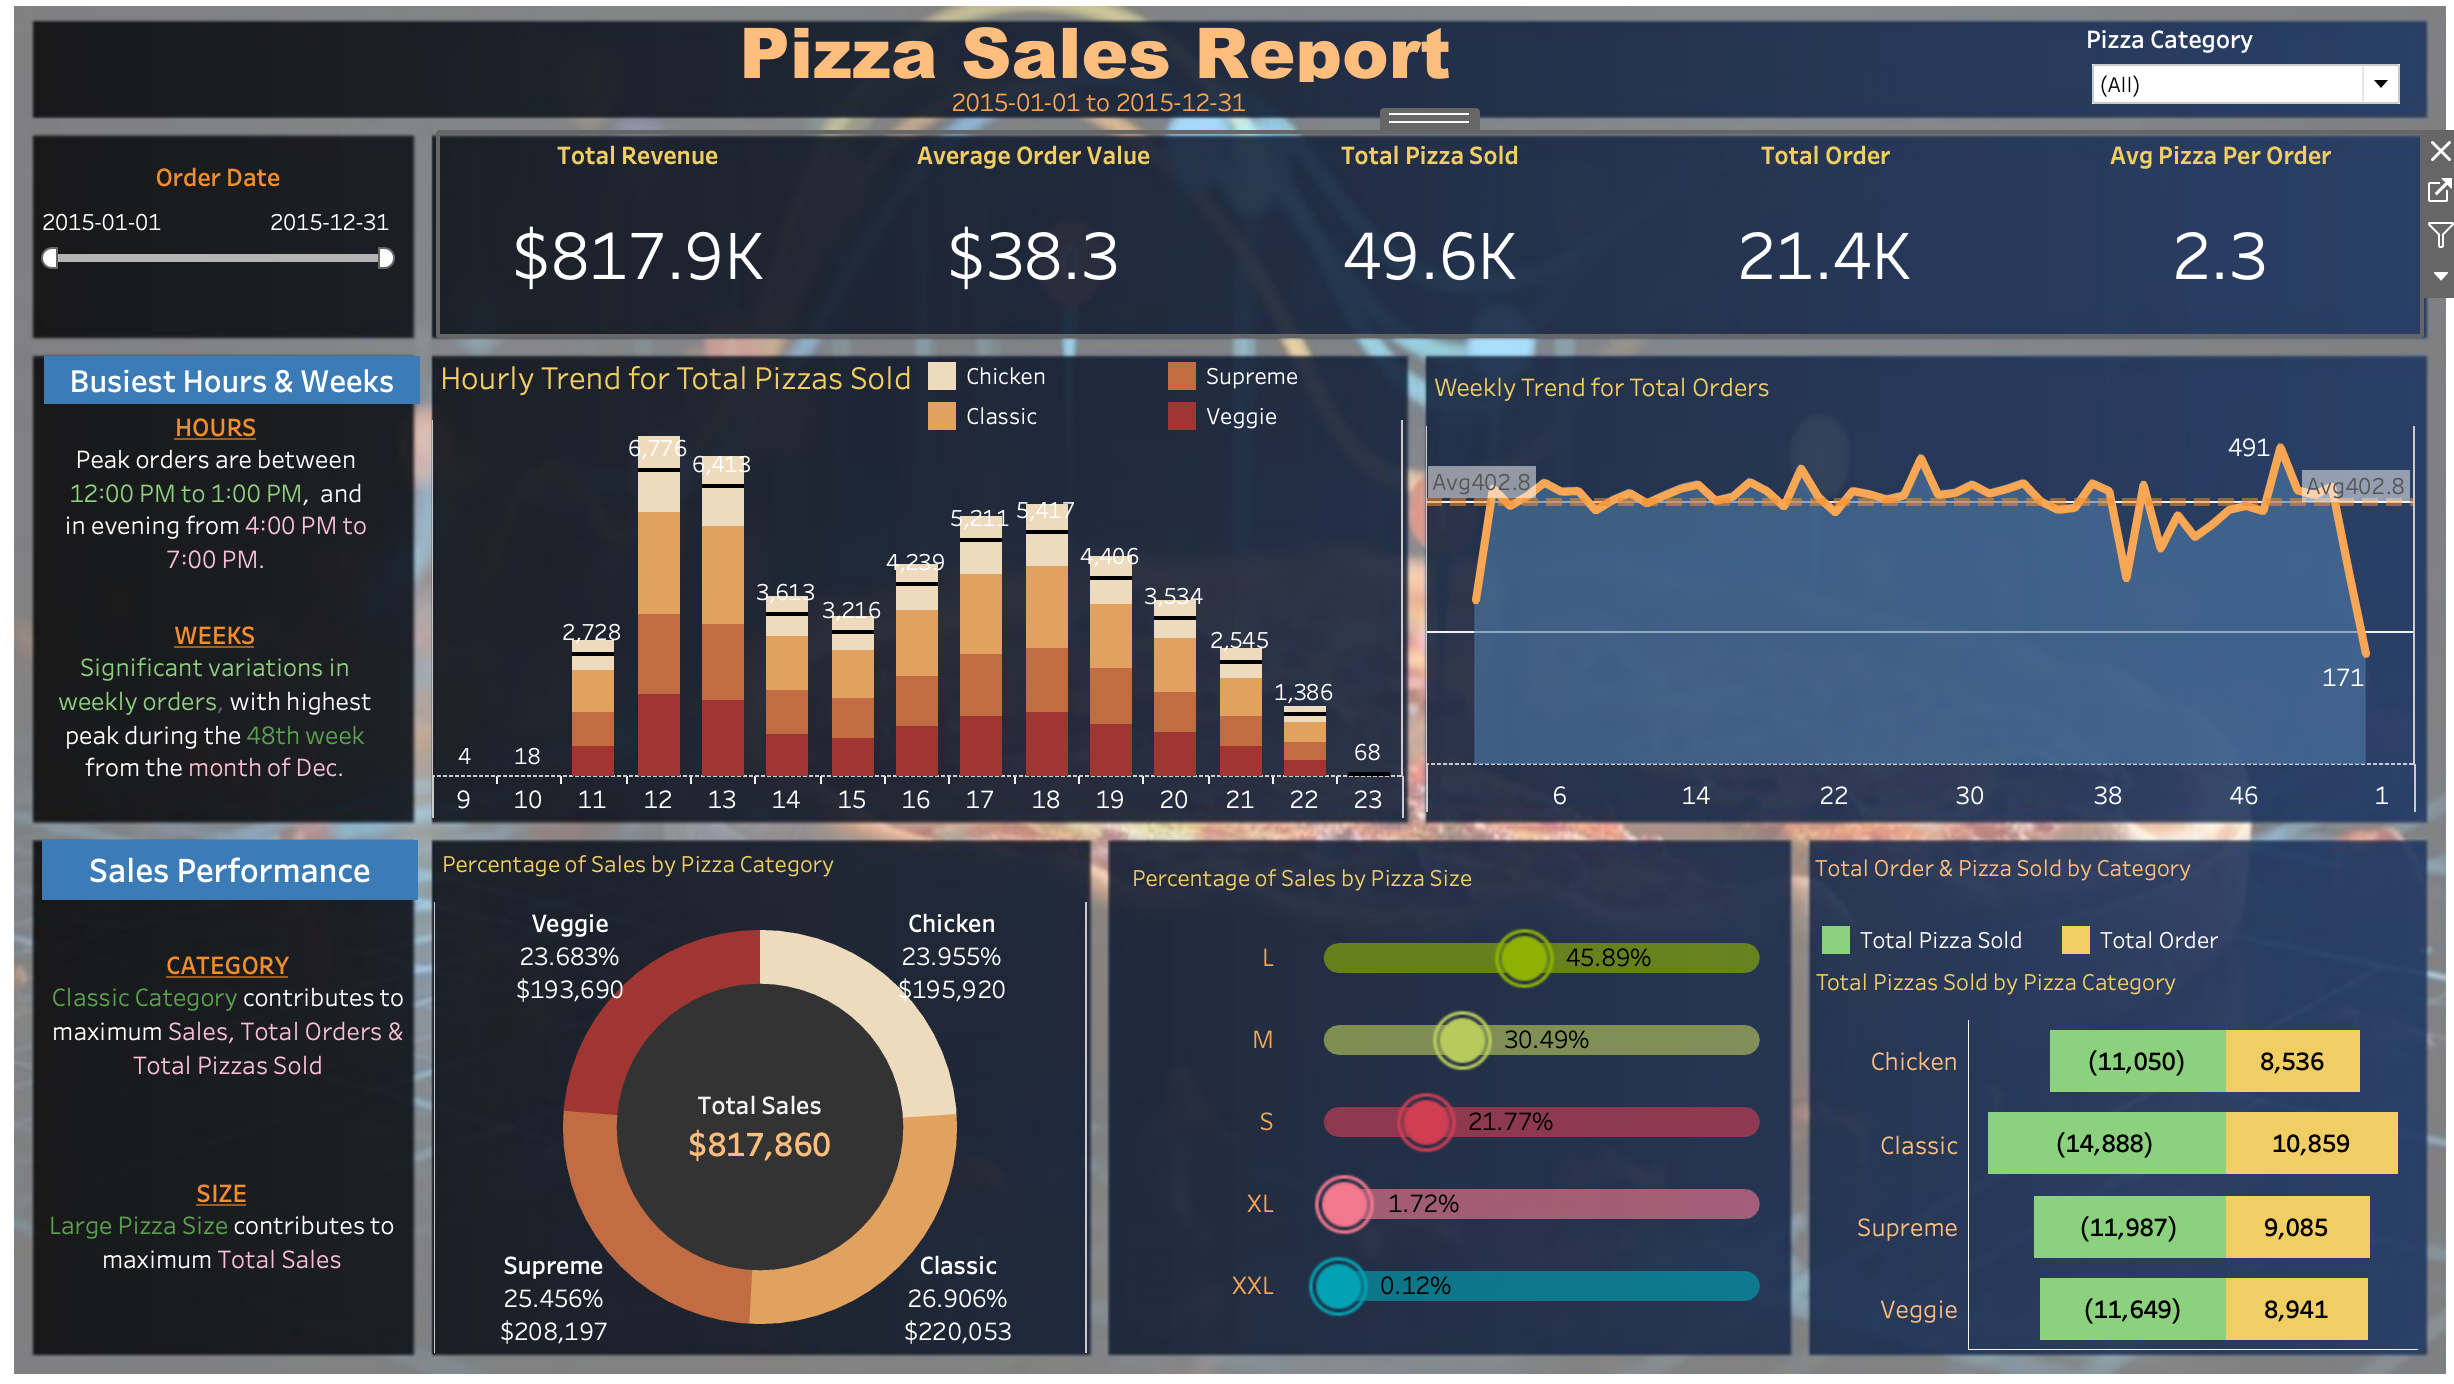

The page's visual inventory and layout, read from the dashboard file:
{"tool":"tableau","page":{"name":"Dashboard 1","canvas":[1000,1000],"units":"permille","ordinal":0},"visuals":[{"type":"image","param":"/Users/danhtungcao/Downloads/drive-download-20250127T191921Z-001/Pizza Tableau 1","box":[6.2,11.2,987.5,977.5]},{"type":"text","box":[306.6,26.9,330.7,43.9]},{"type":"filter","title":"Hourly Trend for Total Pizzas Sold","param":"[federated.18bgckw1b9yeji1bie27f1aeb891].[none:pizza_category:nk]","box":[832.7,28.1,124.5,66]},{"type":"worksheet","title":"Date Range","mark":"Automatic","box":[387.6,72.1,120.6,24.1]},{"type":"worksheet","title":"KPI Banner","mark":"Automatic","box":[192.2,107.8,770.4,140.4]},{"type":"filter","title":"Hourly Trend for Total Pizzas Sold","param":"[federated.18bgckw1b9yeji1bie27f1aeb891].[none:order_date:qk]","box":[33.5,125,144.8,95.5]},{"type":"worksheet","title":"Hourly Trend for Total Pizzas Sold","mark":"Bar","rows":["Calculation_5216294311631298563","Calculation_5216294311631298563"],"cols":["order_time"],"box":[189.1,258.2,378.2,333.3]},{"type":"legend","title":"Hourly Trend for Total Pizzas Sold","param":"[federated.18bgckw1b9yeji1bie27f1aeb891].[none:pizza_category:nk]","box":[379.8,263.8,188.3,63.8]},{"type":"text","box":[38,264.5,146.5,34]},{"type":"worksheet","title":"Weekly Trend for Total Orders","mark":"Area","rows":["Calculation_5216294311630618625","Calculation_5216294311630618625"],"cols":["order_date"],"box":[575.9,268.1,385.2,319.2]},{"type":"text","box":[42.8,275.3,124.5,172.8]},{"type":"text","box":[35,427,139.3,165.7]},{"type":"text","box":[37.2,605.4,146.5,42.4]},{"type":"worksheet","title":"Percentage of Sales by Pizza Category","mark":"Pie","rows":["Calculation_1462473654148489219","Calculation_1462473654148489219"],"box":[189.9,605.7,254.5,363.1]},{"type":"text","box":[725.3,606.8,164.2,36.8]},{"type":"worksheet","title":"Percentage of Sales by Pizza Size","mark":"Line","rows":["pizza_size"],"box":[458.4,615.6,255.2,333.3]},{"type":"text","box":[36.6,650.6,146.3,158.4]},{"type":"legend","title":"Total Pizzas Sold by Pizza Category","param":"[federated.18bgckw1b9yeji1bie27f1aeb891].[:Measure Names]","box":[727.9,662,233.3,35.4]},{"type":"worksheet","title":"Total Pizzas Sold by Pizza Category","mark":"Automatic","rows":["pizza_category"],"box":[724.5,689.4,237.3,276.6]},{"type":"text","box":[34.2,796.3,146.3,164.1]}]}

Visuals, with their boxes on the dashboard's canvas, which has no fixed pixel size, in thousandths of its width and height (x1, y1, x2, y2). These are canvas units, not pixel positions in the 2454x1384 screenshot, which may show the page scaled, cropped or inside an application window:
image: {"left": 6, "top": 11, "right": 994, "bottom": 989}
text: {"left": 307, "top": 27, "right": 637, "bottom": 71}
"Hourly Trend for Total Pizzas Sold" filter: {"left": 833, "top": 28, "right": 957, "bottom": 94}
"Date Range" worksheet: {"left": 388, "top": 72, "right": 508, "bottom": 96}
"KPI Banner" worksheet: {"left": 192, "top": 108, "right": 963, "bottom": 248}
"Hourly Trend for Total Pizzas Sold" filter: {"left": 34, "top": 125, "right": 178, "bottom": 220}
"Hourly Trend for Total Pizzas Sold" worksheet (Bar marks): {"left": 189, "top": 258, "right": 567, "bottom": 592}
"Hourly Trend for Total Pizzas Sold" legend: {"left": 380, "top": 264, "right": 568, "bottom": 328}
text: {"left": 38, "top": 264, "right": 184, "bottom": 298}
"Weekly Trend for Total Orders" worksheet (Area marks): {"left": 576, "top": 268, "right": 961, "bottom": 587}
text: {"left": 43, "top": 275, "right": 167, "bottom": 448}
text: {"left": 35, "top": 427, "right": 174, "bottom": 593}
text: {"left": 37, "top": 605, "right": 184, "bottom": 648}
"Percentage of Sales by Pizza Category" worksheet (Pie marks): {"left": 190, "top": 606, "right": 444, "bottom": 969}
text: {"left": 725, "top": 607, "right": 890, "bottom": 644}
"Percentage of Sales by Pizza Size" worksheet (Line marks): {"left": 458, "top": 616, "right": 714, "bottom": 949}
text: {"left": 37, "top": 651, "right": 183, "bottom": 809}
"Total Pizzas Sold by Pizza Category" legend: {"left": 728, "top": 662, "right": 961, "bottom": 697}
"Total Pizzas Sold by Pizza Category" worksheet: {"left": 724, "top": 689, "right": 962, "bottom": 966}
text: {"left": 34, "top": 796, "right": 180, "bottom": 960}
